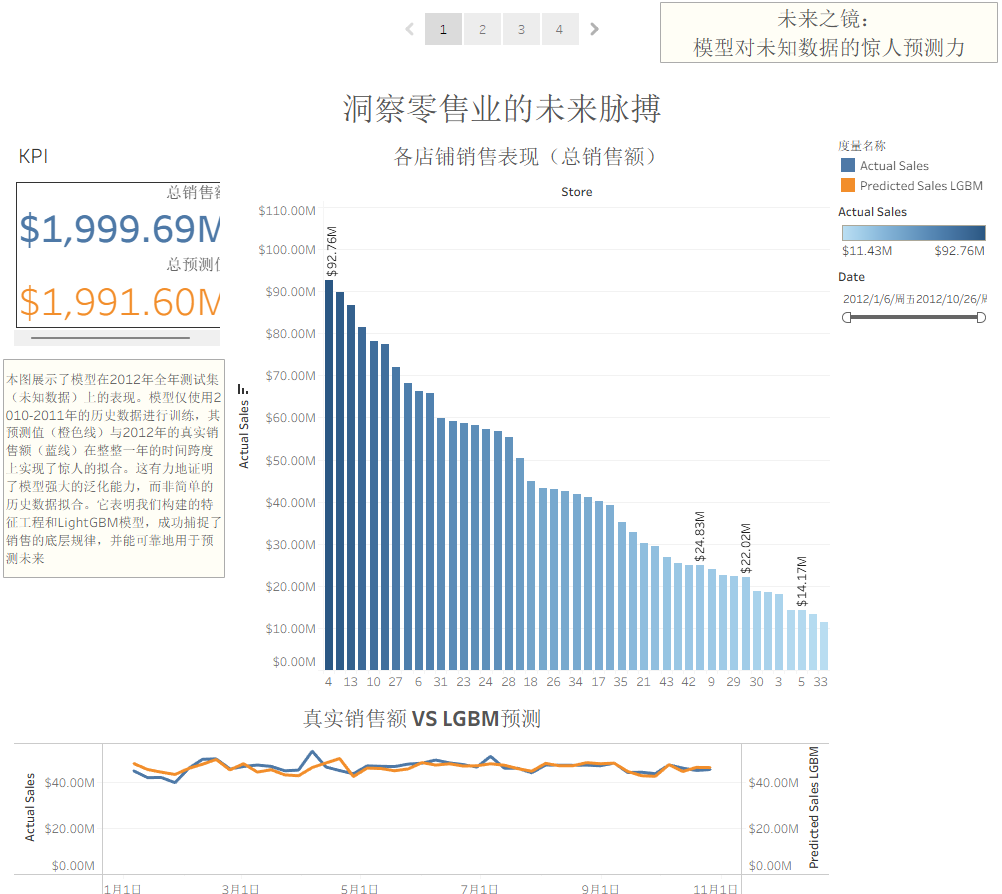

This screenshot's page, from the dashboard's own definition file:
{"tool":"tableau","page":{"name":"仪表板 1","canvas":[1000,1000],"units":"permille","ordinal":0},"visuals":[{"type":"title","box":[5.1,8.9,989.8,57.8]},{"type":"worksheet","title":"KPI","mark":"Automatic","box":[5.1,66.7,230.7,648.5]},{"type":"worksheet","title":"工作表 2","mark":"Automatic","rows":["Actual_Sales"],"cols":["Store"],"box":[235.8,66.7,656.9,648.5]},{"type":"legend","title":"工作表 1","param":"[federated.1p1oq4f16leaxy1gujmzi1e0lf9b].[:Measure Names]","box":[892.6,66.7,102.2,73.4]},{"type":"legend","title":"工作表 2","param":"[federated.1p1oq4f16leaxy1gujmzi1e0lf9b].[sum:Actual_Sales:qk]","box":[892.6,140.2,102.2,72.3]},{"type":"filter","title":"工作表 1","param":"[federated.1p1oq4f16leaxy1gujmzi1e0lf9b].[none:Date:qk]","box":[892.6,212.5,102.2,76.8]},{"type":"worksheet","title":"工作表 1","mark":"Automatic","rows":["Actual_Sales","Predicted_Sales_LGBM"],"cols":["Date"],"box":[5.1,715.2,887.5,275.9]}]}

Visuals, with their boxes on the dashboard's canvas, which has no fixed pixel size, in thousandths of its width and height (x1, y1, x2, y2). These are canvas units, not pixel positions in the 1002x894 screenshot, which may show the page scaled, cropped or inside an application window:
title: [x1=5, y1=9, x2=995, y2=67]
"KPI" worksheet: [x1=5, y1=67, x2=236, y2=715]
"工作表 2" worksheet: [x1=236, y1=67, x2=893, y2=715]
"工作表 1" legend: [x1=893, y1=67, x2=995, y2=140]
"工作表 2" legend: [x1=893, y1=140, x2=995, y2=212]
"工作表 1" filter: [x1=893, y1=212, x2=995, y2=289]
"工作表 1" worksheet: [x1=5, y1=715, x2=893, y2=991]
